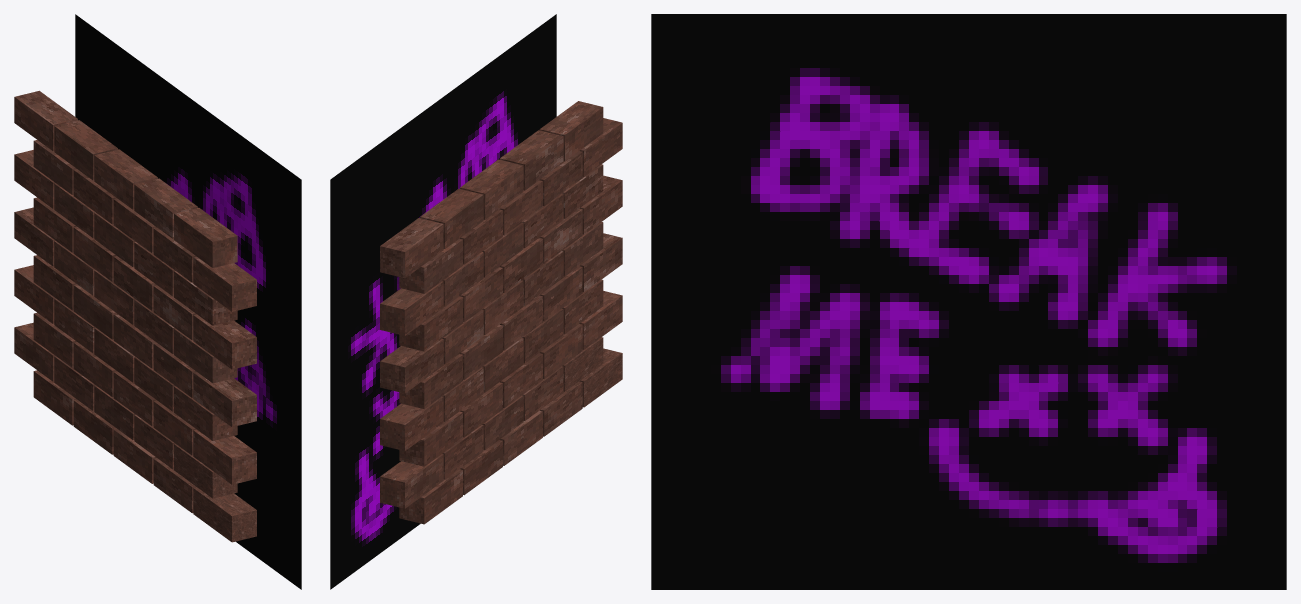
The model's file is brick.glb.
3 renders of one model, left to right at view 1: azimuth 30°, elevation 25°; view 2: azimuth 150°, elevation 25°; view 3: azimuth 270°, elevation 25°, orthographic. The views are drawn at different scales.
Visible parts, largest first — view 1: Cube.002, Plane, Cube.001, brick; view 2: Cube.002, Plane, Cube.001, brick; view 3: Plane.
Part boxes in pixels (x1,y1,x2,y2): Cube.002: [14, 90, 256, 513]; Plane: [75, 14, 301, 589]; Cube.001: [174, 444, 256, 542]; brick: [33, 140, 76, 194]; Cube.002: [380, 101, 622, 524]; Plane: [330, 14, 556, 589]; Cube.001: [562, 337, 622, 407]; brick: [399, 238, 462, 293]; Plane: [651, 14, 1286, 589].
Bounding box in the file's own units: 2.03 × 11.74 × 11.74.
Materials: 2 (2 with a texture image).
